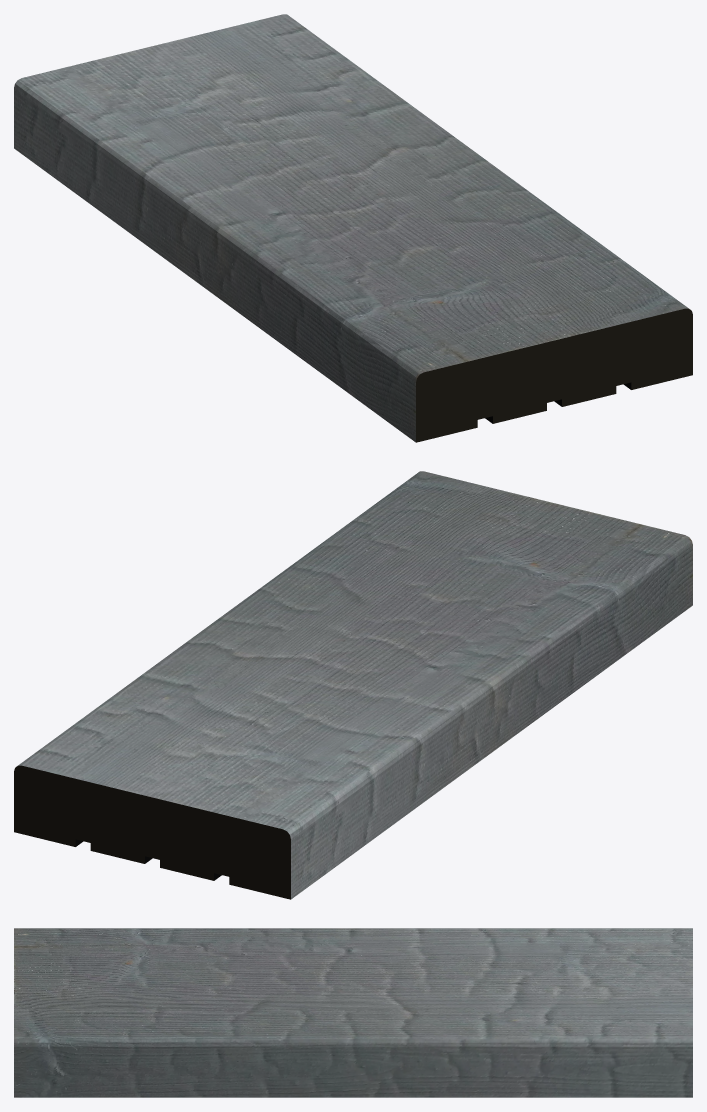
The model's file is thermo-terrace-graphite.glb.
The picture shows the model from 3 angles, top to bottom: view 1: azimuth 30°, elevation 25°; view 2: azimuth 150°, elevation 25°; view 3: azimuth 270°, elevation 25°; orthographic projection. The views are drawn at different scales.
Visible parts, largest first — view 1: Staciakampis; view 2: Staciakampis; view 3: Staciakampis.
Part boxes in pixels (<box>): Staciakampis: <box>14,14,692,442</box>; Staciakampis: <box>14,471,692,899</box>; Staciakampis: <box>14,928,692,1097</box>.
Bounding box in the file's own units: 0.0733 × 0.0173 × 0.1843.
3 materials, 1 textured.
